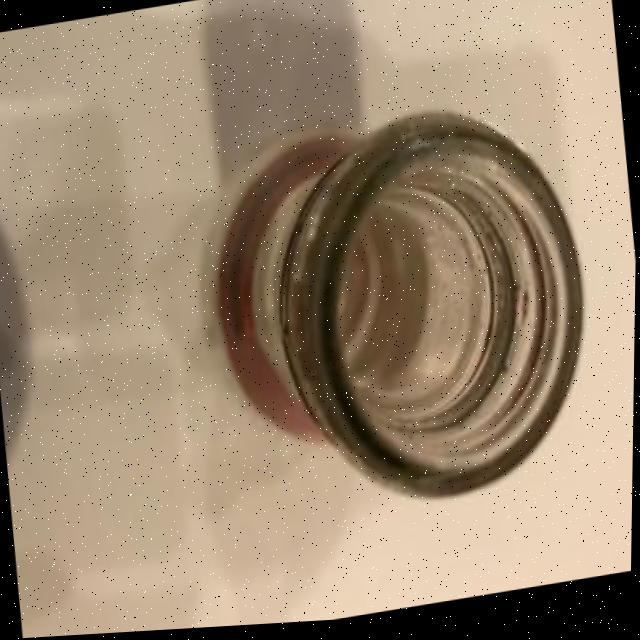glass: (192, 86, 619, 545)
